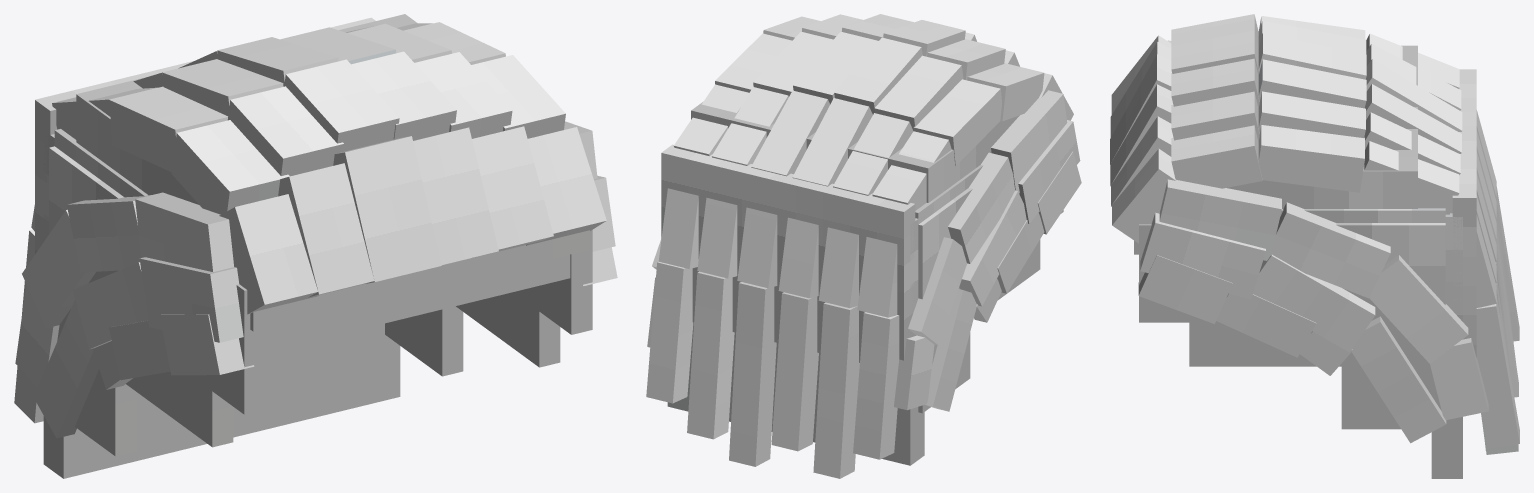
The model's file is slicked-back-textured.gltf.
3 renders of one model, left to right at view 1: azimuth 30°, elevation 25°; view 2: azimuth 150°, elevation 25°; view 3: azimuth 270°, elevation 25°, orthographic. The views are drawn at different scales.
Parts seen in each view (by area): view 1: 뒤통수, 옆 L (×2), 윗머리 줄기 3 1, 정수리, 옆 R (×2), 윗머리 줄기 2 1, 윗머리 줄기 4 1, 윗머리 줄기 1 1, 윗머리 줄기 1 2, 앞 머리선, 윗머리 줄기 5 1, 윗머리 줄기 2 2 (+29 smaller); view 2: 뒤 볼륨, 윗머리 줄기 4 6, 윗머리 줄기 2 6, 윗머리 줄기 5 6, 윗머리 줄기 3 6, 윗머리 줄기 1 6, 윗머리 줄기 6 6, 윗머리 줄기 1 3, 옆 줄기 위 L 2, 윗머리 속, 윗머리 줄기 3 4, 윗머리 줄기 4 4 (+33 smaller); view 3: 옆 R (×2), 옆 줄기 위 R 2, 옆 줄기 위 R 1, 윗머리 줄기 6 3, 옆 줄기 가운데 R 2, 윗머리 속, 옆 줄기 가운데 R 3, 옆 줄기 위 R 3, 옆 줄기 가운데 R 1, 뒤 볼륨, 윗머리 줄기 6 2, 윗머리 줄기 6 6 (+38 smaller).
Part boxes in pixels (x1,y1,x2,y2): 뒤통수: [43, 132, 400, 478]; 옆 L (×2): [49, 146, 233, 456]; 윗머리 줄기 3 1: [333, 136, 441, 283]; 정수리: [54, 129, 570, 352]; 옆 R (×2): [385, 286, 560, 376]; 윗머리 줄기 2 1: [278, 163, 374, 297]; 윗머리 줄기 4 1: [413, 127, 498, 264]; 윗머리 줄기 1 1: [219, 194, 319, 314]; 윗머리 줄기 1 2: [171, 120, 289, 214]; 앞 머리선: [250, 230, 589, 331]; 윗머리 줄기 5 1: [472, 126, 553, 257]; 윗머리 줄기 2 2: [227, 86, 343, 176]; 뒤 볼륨: [661, 144, 915, 362]; 윗머리 줄기 4 6: [729, 282, 776, 466]; 윗머리 줄기 2 6: [813, 302, 859, 478]; 윗머리 줄기 5 6: [687, 271, 734, 439]; 윗머리 줄기 3 6: [771, 292, 818, 451]; 윗머리 줄기 1 6: [853, 312, 899, 459]; 윗머리 줄기 6 6: [646, 261, 693, 403]; 윗머리 줄기 1 3: [913, 79, 1002, 165]; 옆 줄기 위 L 2: [948, 152, 1015, 263]; 윗머리 속: [691, 101, 1019, 202]; 윗머리 줄기 3 4: [792, 98, 872, 186]; 윗머리 줄기 4 4: [751, 90, 830, 176]; 옆 R (×2): [1189, 223, 1445, 429]; 옆 줄기 위 R 2: [1271, 202, 1390, 298]; 옆 줄기 위 R 1: [1159, 179, 1281, 260]; 윗머리 줄기 6 3: [1258, 125, 1364, 192]; 옆 줄기 가운데 R 2: [1253, 254, 1375, 352]; 윗머리 속: [1227, 45, 1417, 208]; 옆 줄기 가운데 R 3: [1352, 316, 1446, 443]; 옆 줄기 위 R 3: [1369, 255, 1468, 363]; 옆 줄기 가운데 R 1: [1140, 212, 1265, 299]; 뒤 볼륨: [1452, 69, 1476, 357]; 윗머리 줄기 6 2: [1171, 125, 1262, 188]; 윗머리 줄기 6 6: [1476, 296, 1519, 448].
Size of the model in its own units: 0.65 by 0.7564 by 0.7394.
Materials: 3 (3 with a texture image).
